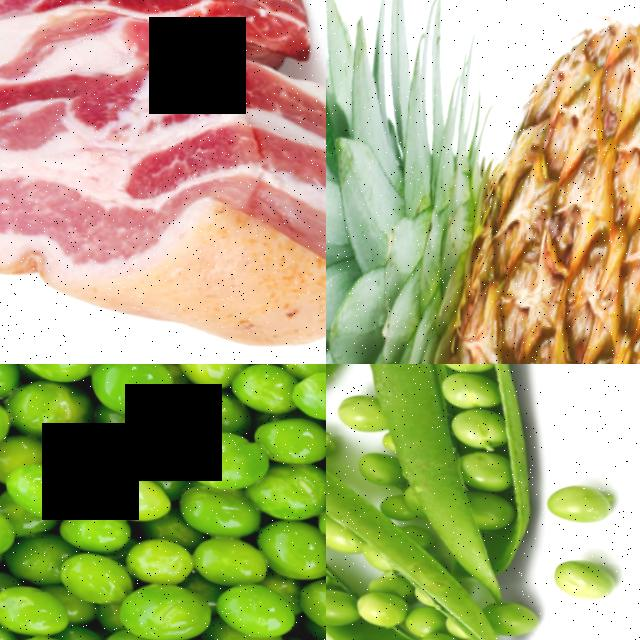peas: (0, 364, 326, 640), (326, 555, 537, 640), (408, 364, 541, 495)
pineapple: (326, 0, 640, 364)
pork belly: (0, 18, 326, 356), (0, 0, 326, 141)
